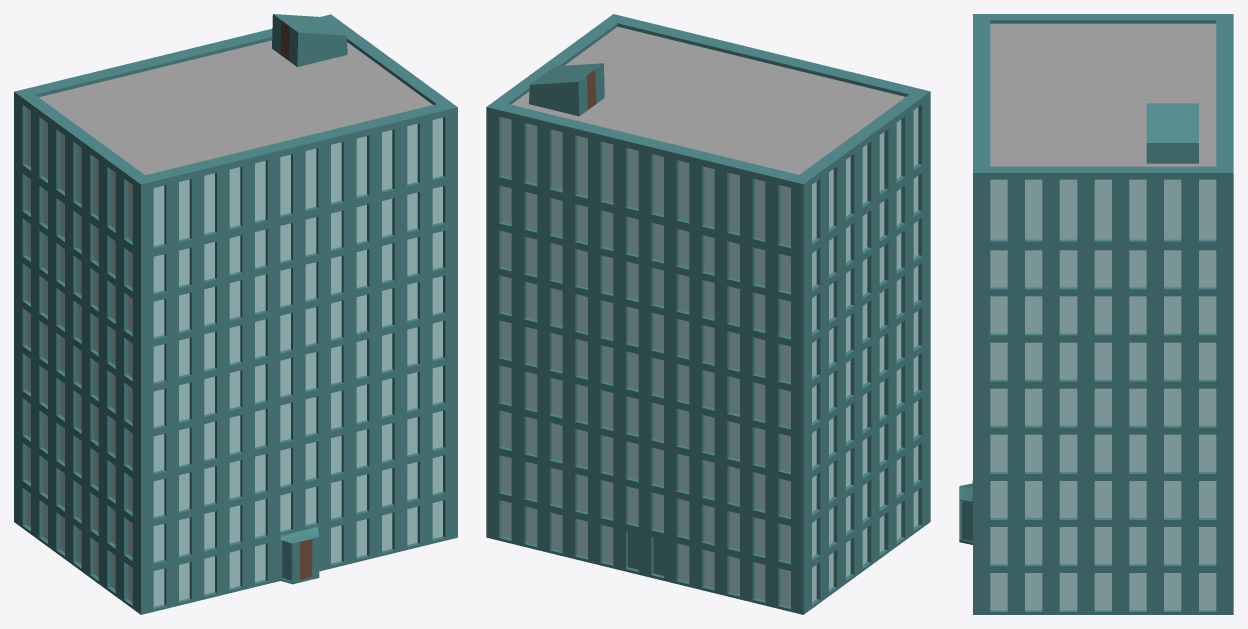
The model's file is building5.fbx.
3 renders of one model, left to right at view 1: azimuth 30°, elevation 25°; view 2: azimuth 150°, elevation 25°; view 3: azimuth 270°, elevation 25°, orthographic. The views are drawn at different scales.
Visible parts, largest first — view 1: pCube2; view 2: pCube2; view 3: pCube2.
Boxes of the visible parts, x1,y1,x2,y2 form: pCube2: [14, 14, 457, 614]; pCube2: [486, 14, 930, 614]; pCube2: [959, 14, 1233, 614].
Size of the model in its own units: 31.72 by 44.14 by 23.15.
